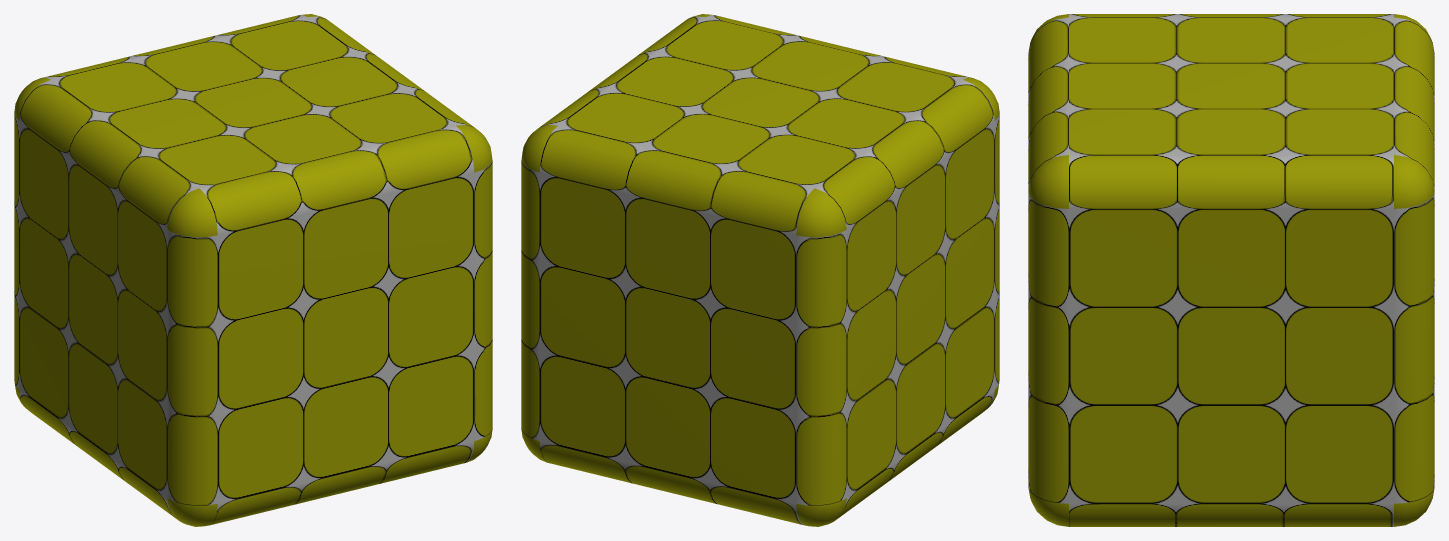
The model's file is New2_Ground.fbx.
The picture shows the model from 3 angles, left to right: view 1: azimuth 30°, elevation 25°; view 2: azimuth 150°, elevation 25°; view 3: azimuth 270°, elevation 25°; orthographic projection. The views are drawn at different scales.
Parts seen in each view (by area): view 1: pCube17; view 2: pCube17; view 3: pCube17.
Boxes of the visible parts, <box> form: pCube17: <box>14,14,492,526</box>; pCube17: <box>521,14,999,526</box>; pCube17: <box>1028,14,1434,526</box>.
Size of the model in its own units: 100 by 100 by 100.
